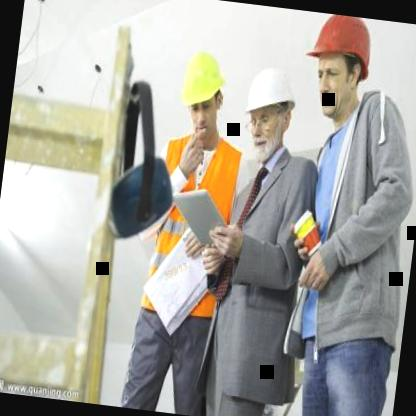helmet: (296, 11, 382, 130), (172, 34, 234, 150), (233, 56, 301, 161)
